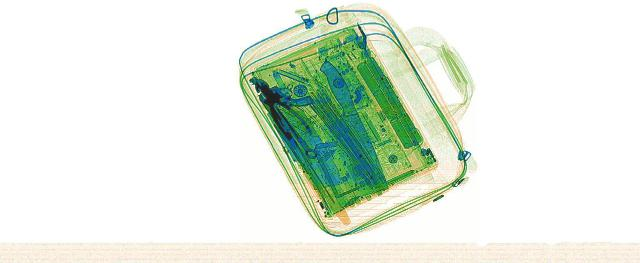Gun: (244, 72, 314, 108)
Knife: (315, 60, 393, 181)
Pliers: (237, 75, 321, 138)
